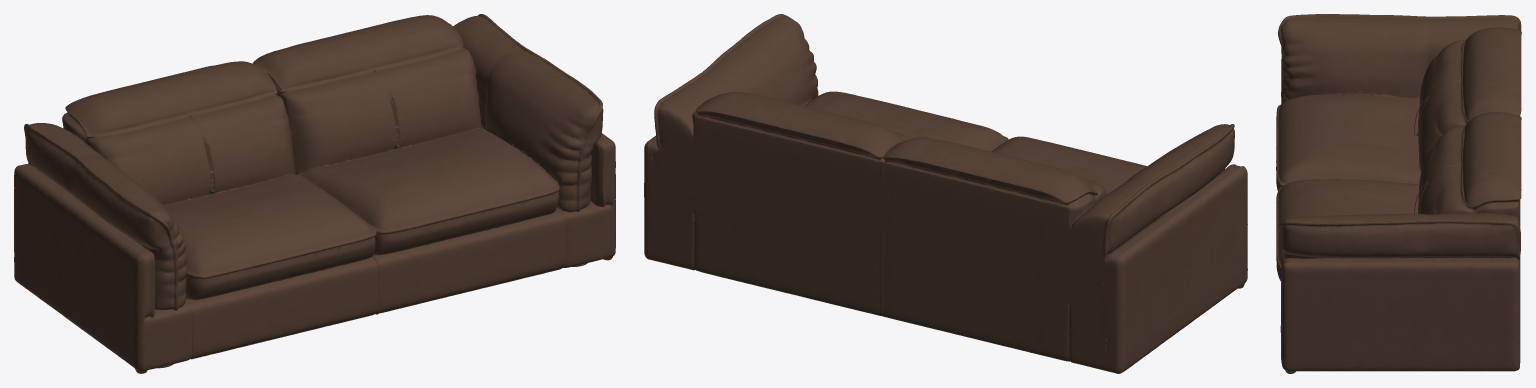
The model's file is YHyJAaauWGv9RC11Btmx2.glb.
The picture shows the model from 3 angles, left to right: view 1: azimuth 30°, elevation 25°; view 2: azimuth 150°, elevation 25°; view 3: azimuth 270°, elevation 25°; orthographic projection. The views are drawn at different scales.
Visible parts, largest first — view 1: world; view 2: world; view 3: world.
Boxes of the visible parts, x1,y1,x2,y2 form: world: [14, 14, 615, 373]; world: [644, 14, 1247, 373]; world: [1276, 14, 1521, 373].
Bounding box in the file's own units: 0.9875 × 0.3485 × 0.471.
1 material, 1 textured.
